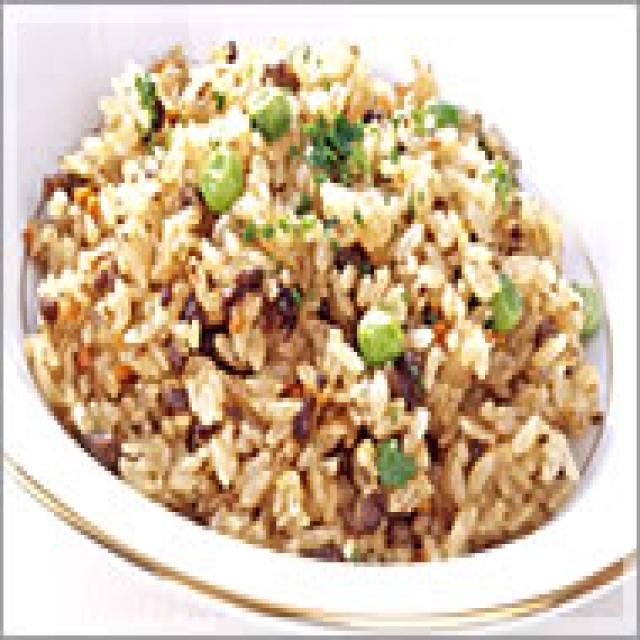米饭主食: (17, 23, 610, 576)
